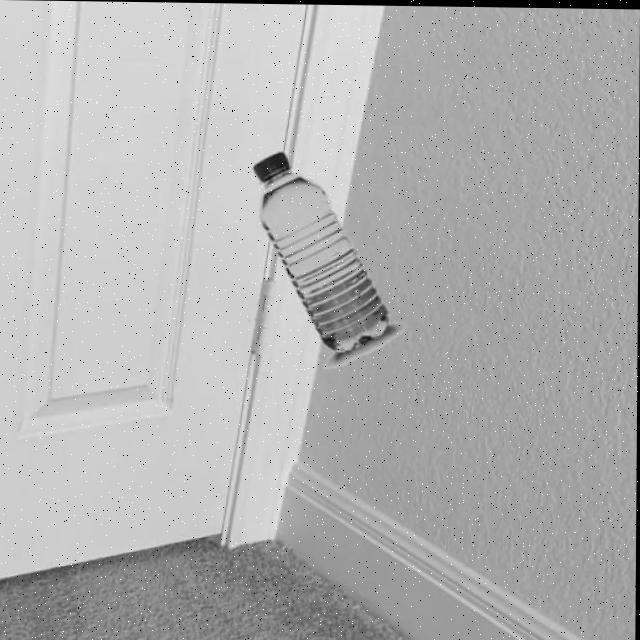bottle: (250, 148, 407, 368)
